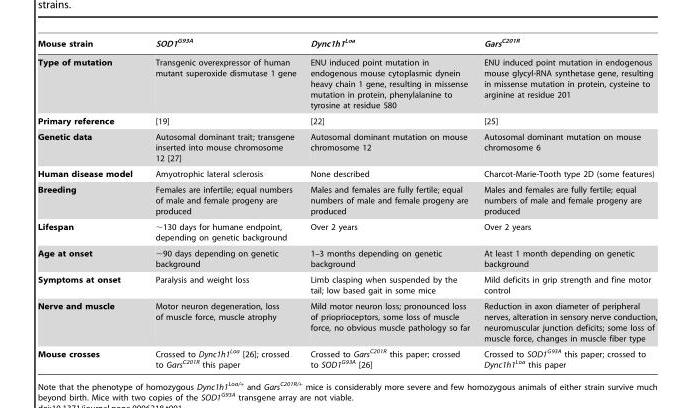table: (37, 37, 656, 368)
table column: (475, 37, 656, 368), (302, 37, 475, 368), (142, 37, 302, 368), (37, 37, 142, 368)
table column header: (37, 37, 656, 52)
table row: (37, 52, 656, 112), (37, 298, 656, 345), (37, 128, 656, 165), (37, 181, 656, 217), (37, 217, 656, 244), (37, 244, 656, 271), (37, 271, 656, 298), (37, 345, 656, 368), (37, 112, 656, 128), (37, 165, 656, 181), (37, 37, 656, 52)
